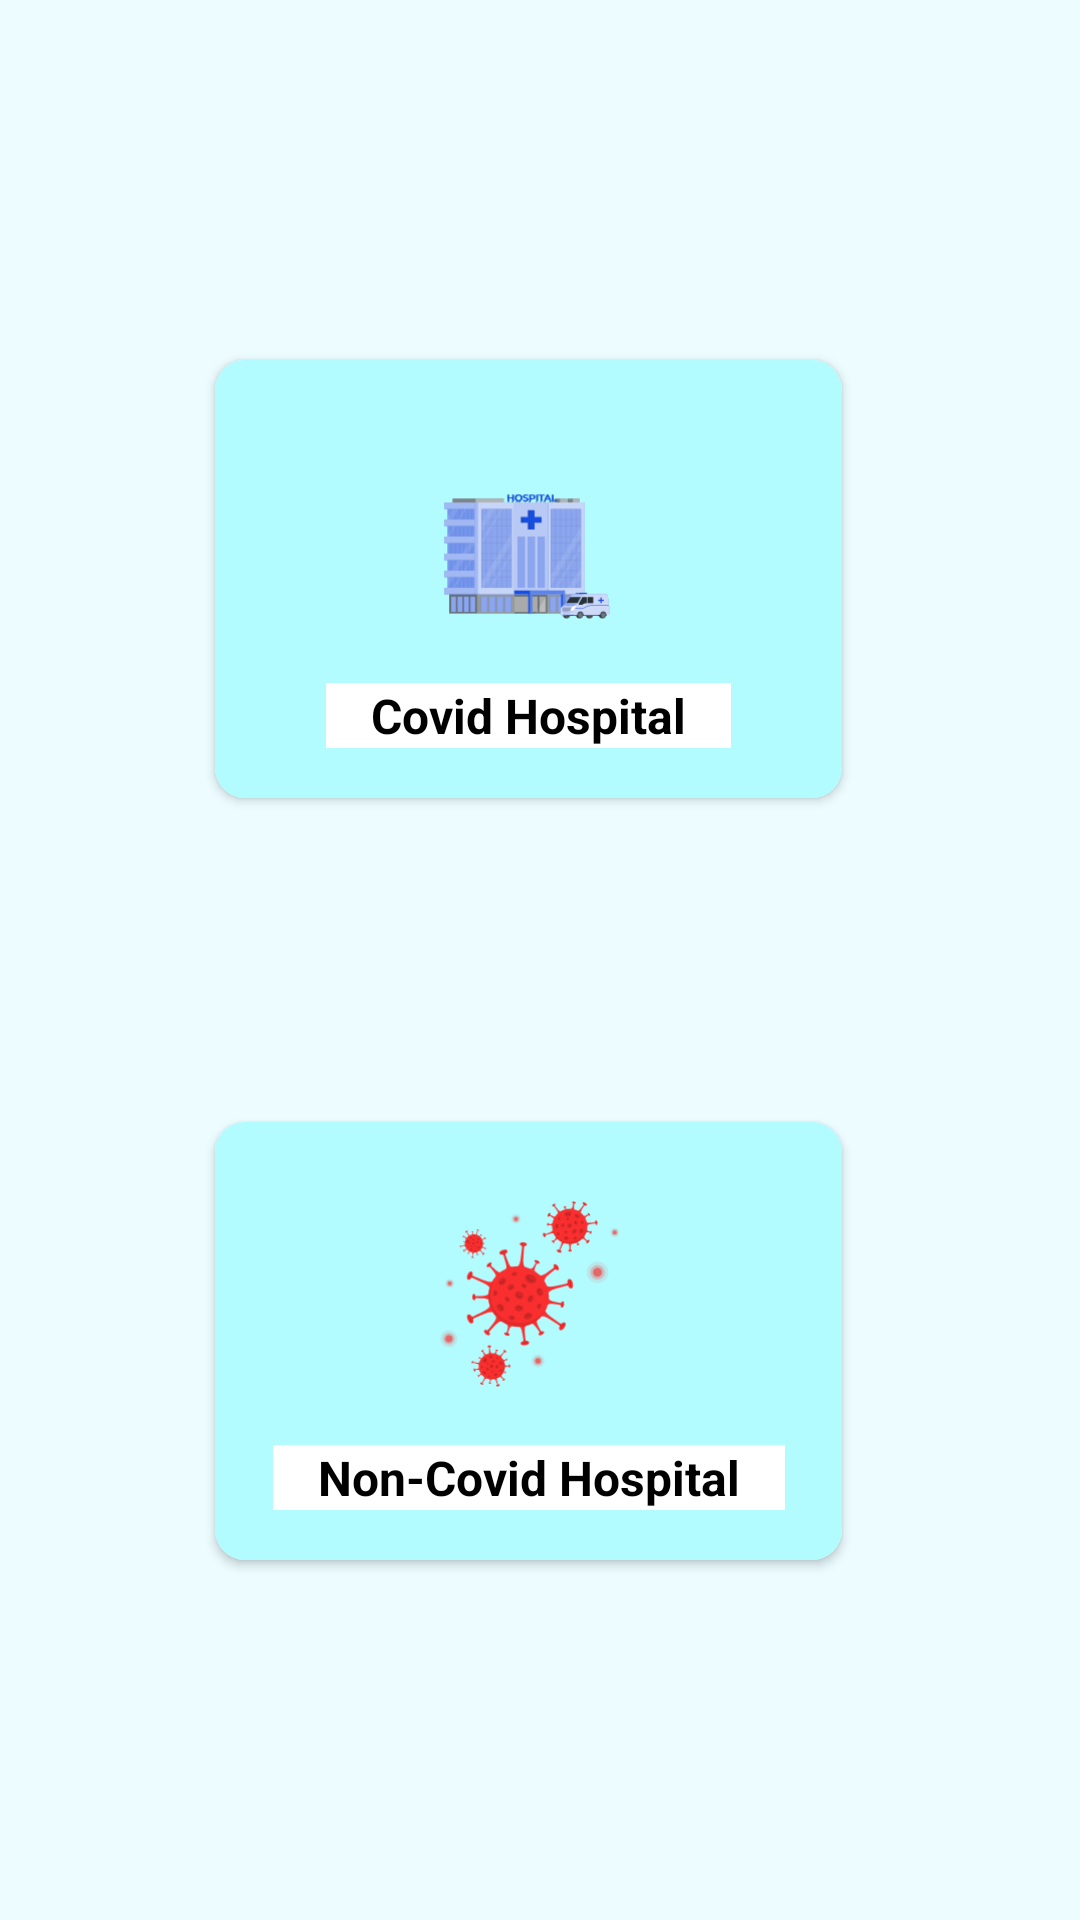

Icons on this 1080 x 1920 Android screen, each with its box as (x1, y1, x2, y2):
hospital building rafiki: (444, 494, 610, 619)
virus amico: (443, 1201, 618, 1387)
